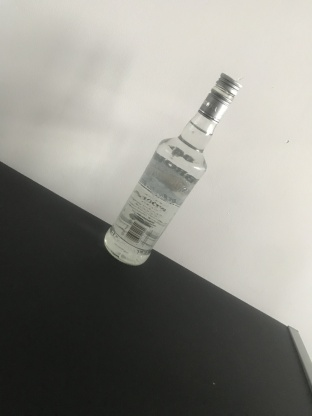nakretka: (196, 70, 243, 125)
